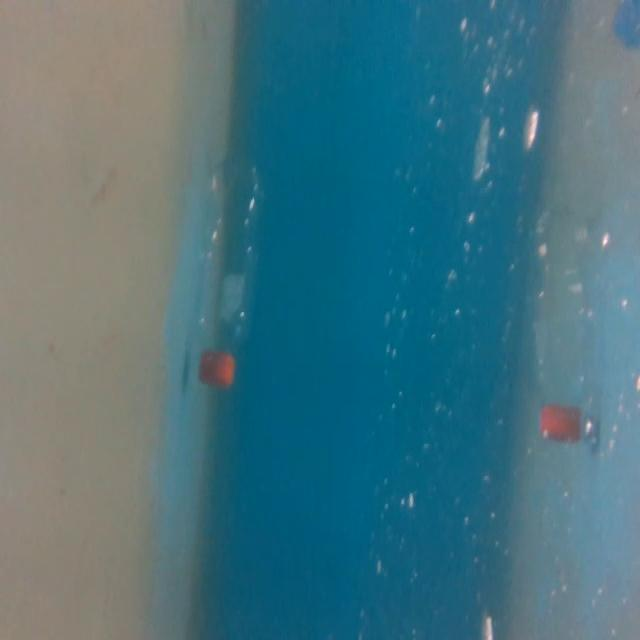plastic bottle: (191, 148, 272, 394)
